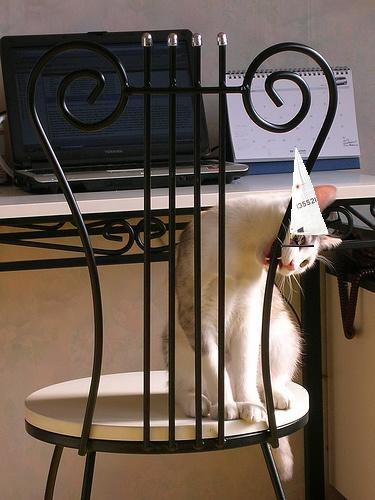tampered: (282, 147, 329, 247)
